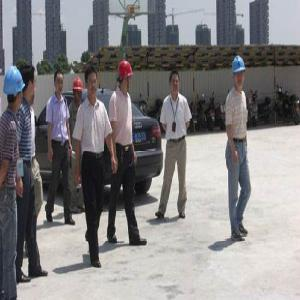blue: (5, 66, 24, 113), (231, 56, 248, 92)
none: (21, 65, 37, 104), (84, 64, 100, 99), (169, 68, 181, 95), (53, 69, 65, 94)
red: (116, 58, 133, 95), (72, 76, 84, 104)
